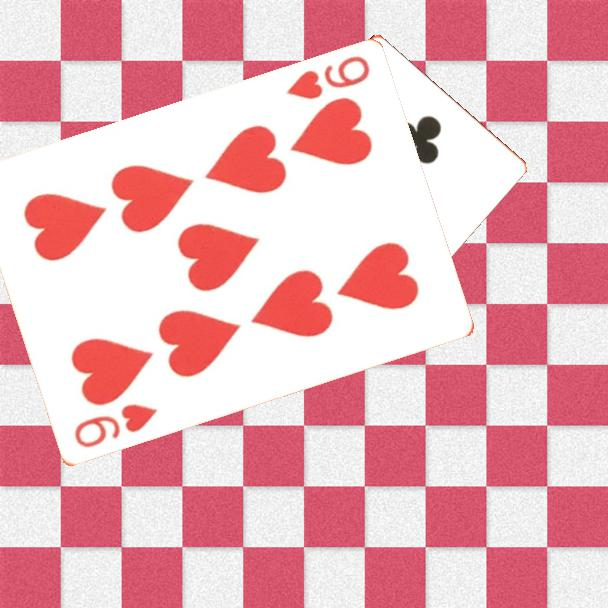h09: (70, 400, 160, 452), (282, 53, 373, 103)
